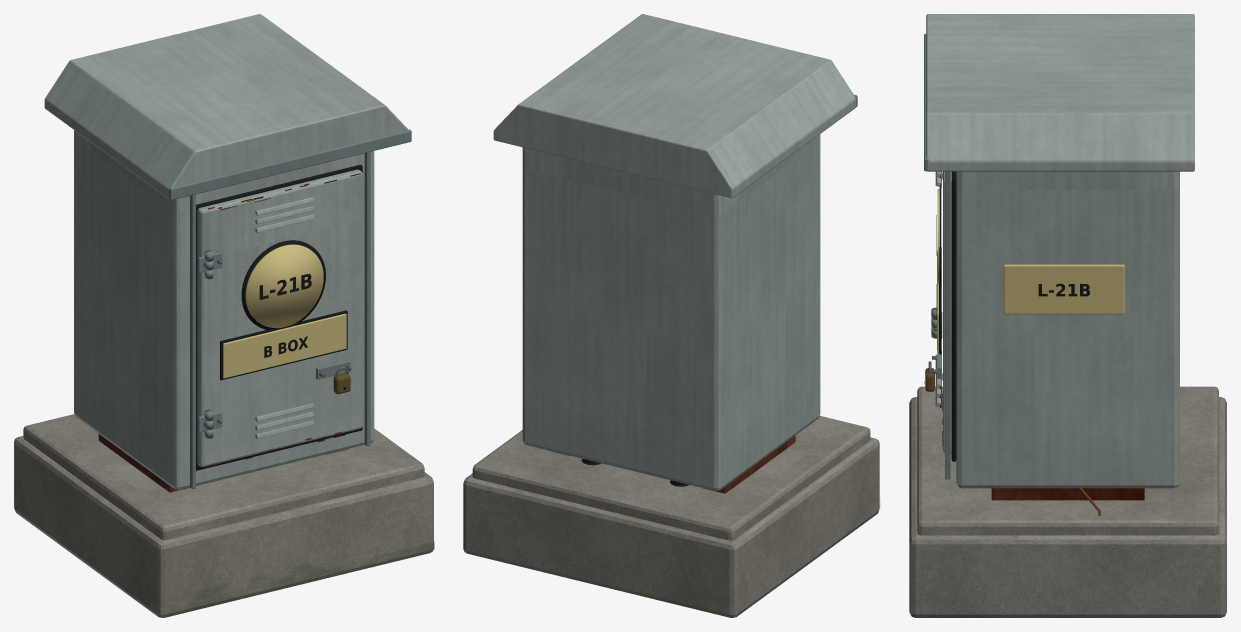
3 renders of one model, left to right at view 1: azimuth 30°, elevation 25°; view 2: azimuth 150°, elevation 25°; view 3: azimuth 270°, elevation 25°, orthographic. The views are drawn at different scales.
Parts seen in each view (by area): view 1: TF3_KR_R02; view 2: TF3_KR_R02; view 3: TF3_KR_R02.
Part boxes in pixels (left/top/right/bottom): TF3_KR_R02: left=14, top=14, right=434, bottom=617; TF3_KR_R02: left=463, top=14, right=880, bottom=617; TF3_KR_R02: left=909, top=14, right=1226, bottom=617.
Size of the model in its own units: 0.87 by 1.37 by 0.811.
Materials: 10 (5 with a texture image).
